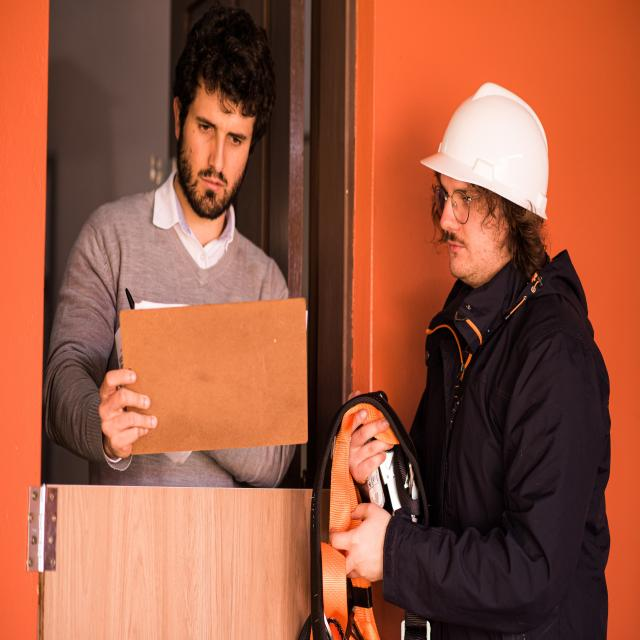capacete: (416, 72, 558, 226)
